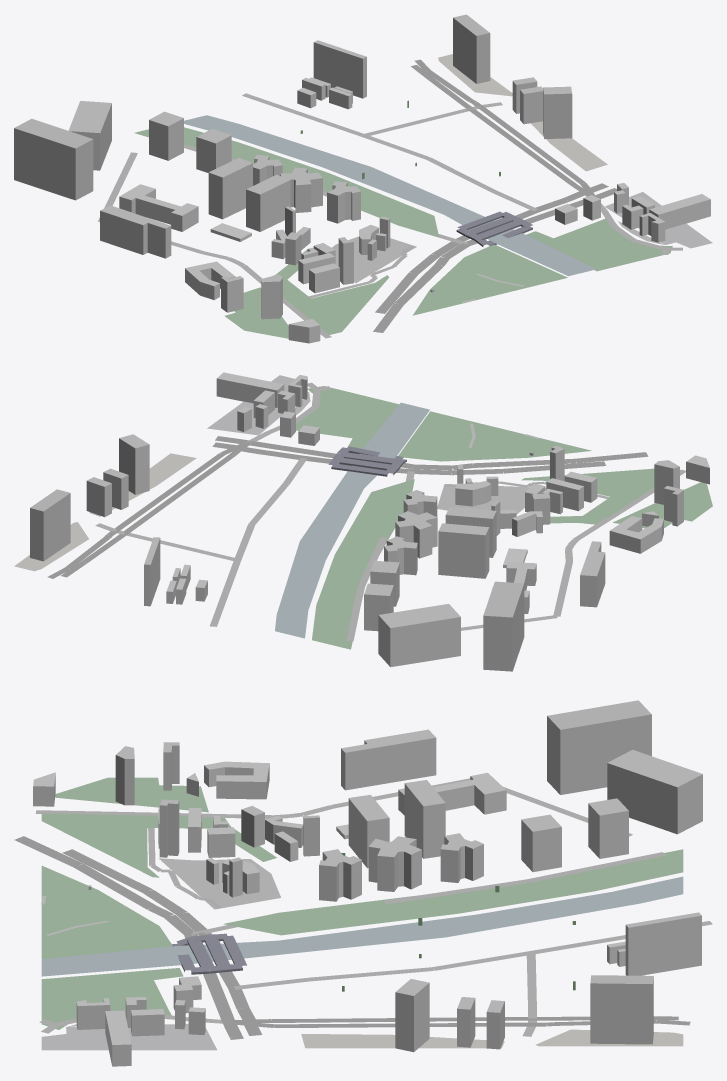
3 renders of one model, top to bottom at view 1: azimuth 30°, elevation 25°; view 2: azimuth 150°, elevation 25°; view 3: azimuth 270°, elevation 25°, orthographic. The views are drawn at different scales.
Bounding box in the file's own units: 551 × 58.7 × 545.
